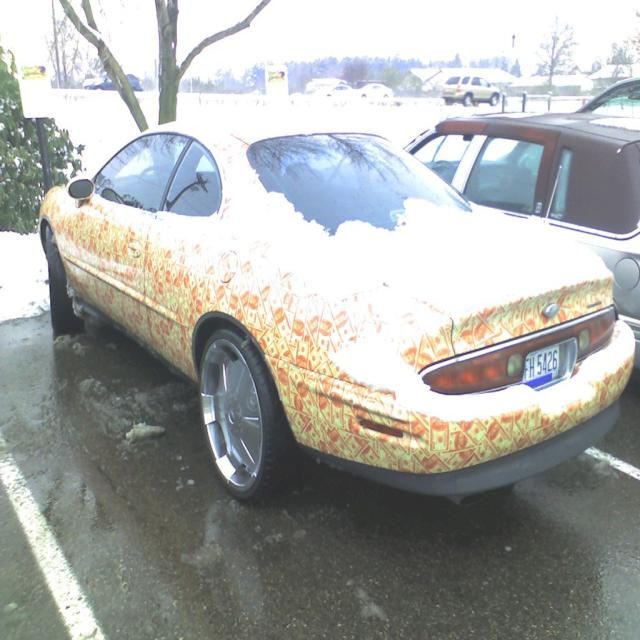car: (33, 107, 638, 510), (322, 81, 347, 92)
